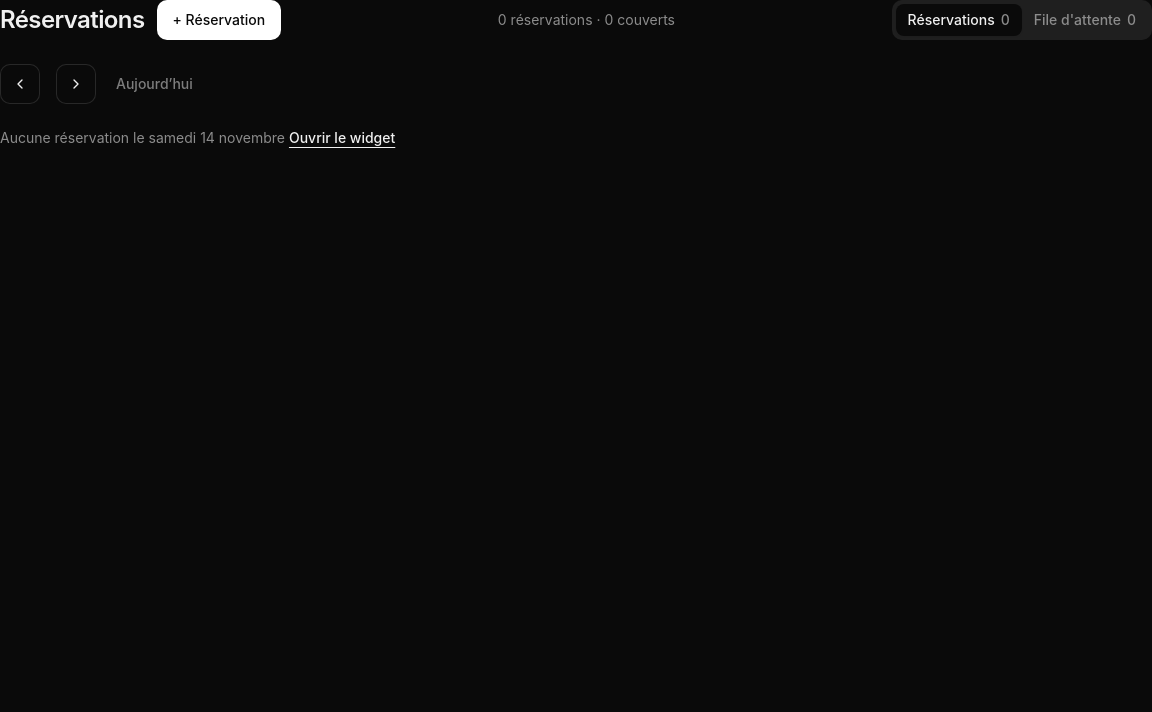
Scenario: ReservationsPage › création par l’équipe › affiche le jour fermé ou une erreur de chargement
Click the button "+ Réservation" at {"x": 219, "y": 20}, box [156,0,281,40]
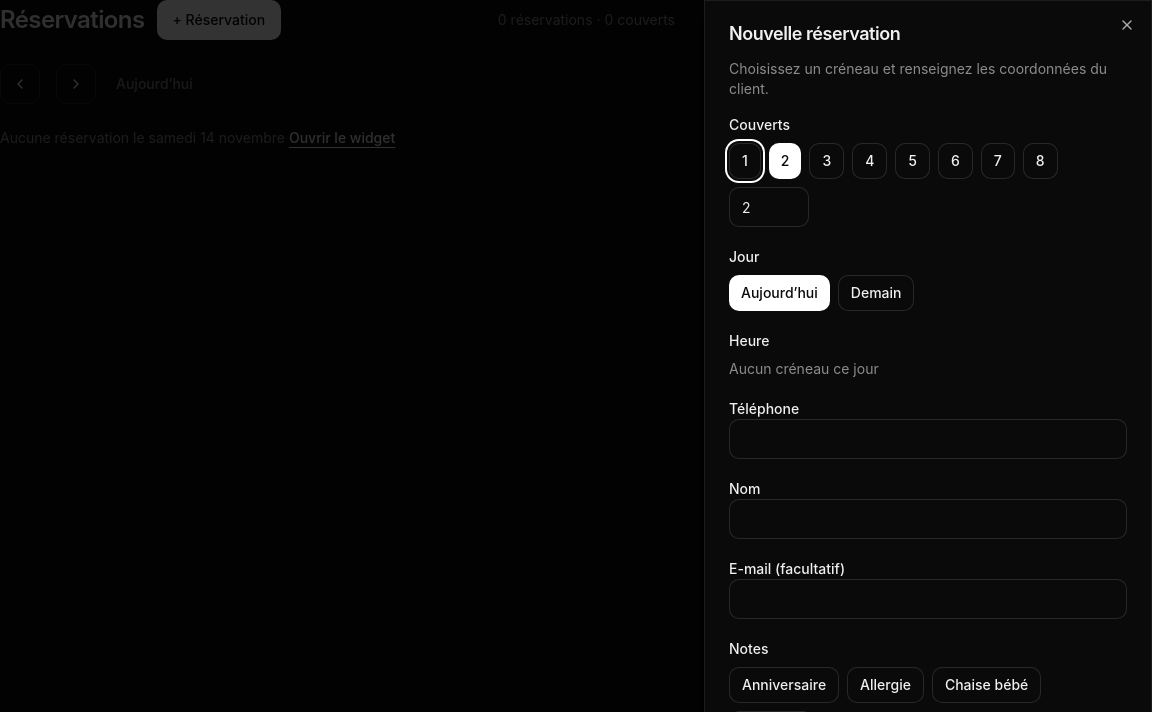
Expected: the text "Aucun créneau ce jour" is shown, [729,360,879,377]
